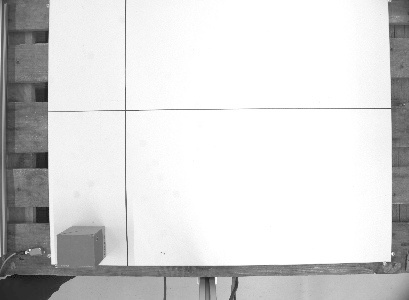b7: (53, 223, 108, 271)
